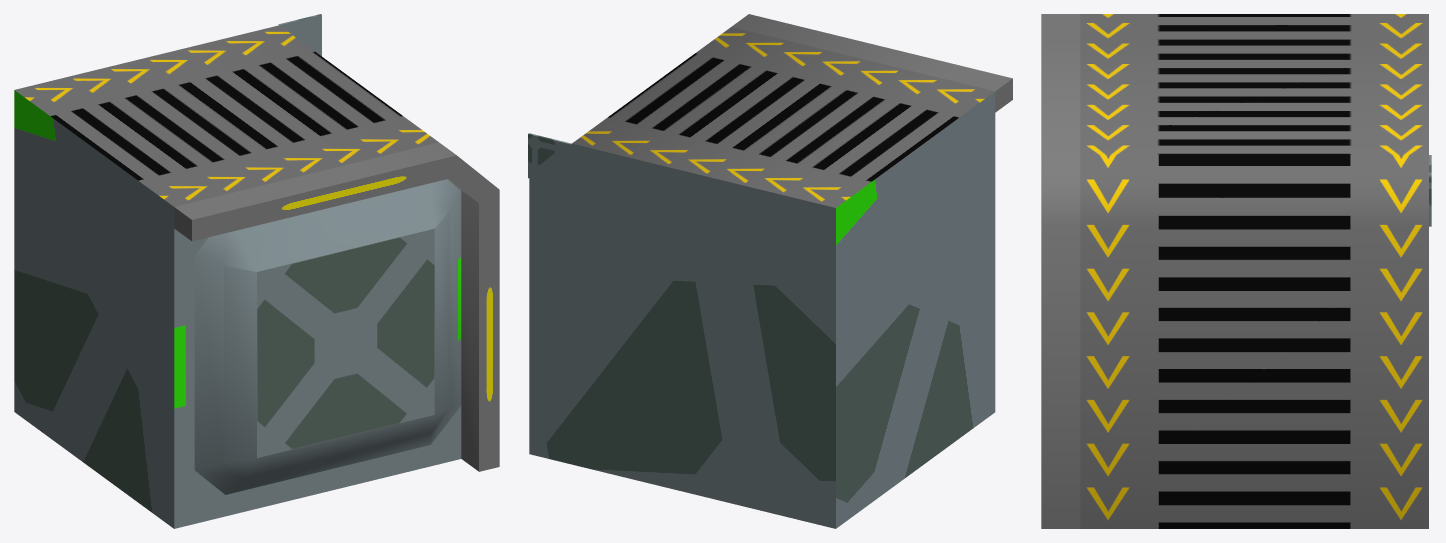
The model's file is TopLeft.fbx.
3 renders of one model, left to right at view 1: azimuth 30°, elevation 25°; view 2: azimuth 150°, elevation 25°; view 3: azimuth 270°, elevation 25°, orthographic. The views are drawn at different scales.
Parts seen in each view (by area): view 1: geo1; view 2: geo1; view 3: geo1.
Part boxes in pixels (left/top/right/bottom): geo1: left=14, top=14, right=499, bottom=528; geo1: left=528, top=14, right=1012, bottom=528; geo1: left=1041, top=14, right=1431, bottom=528.
Size of the model in its own units: 3 by 3 by 3.02.
